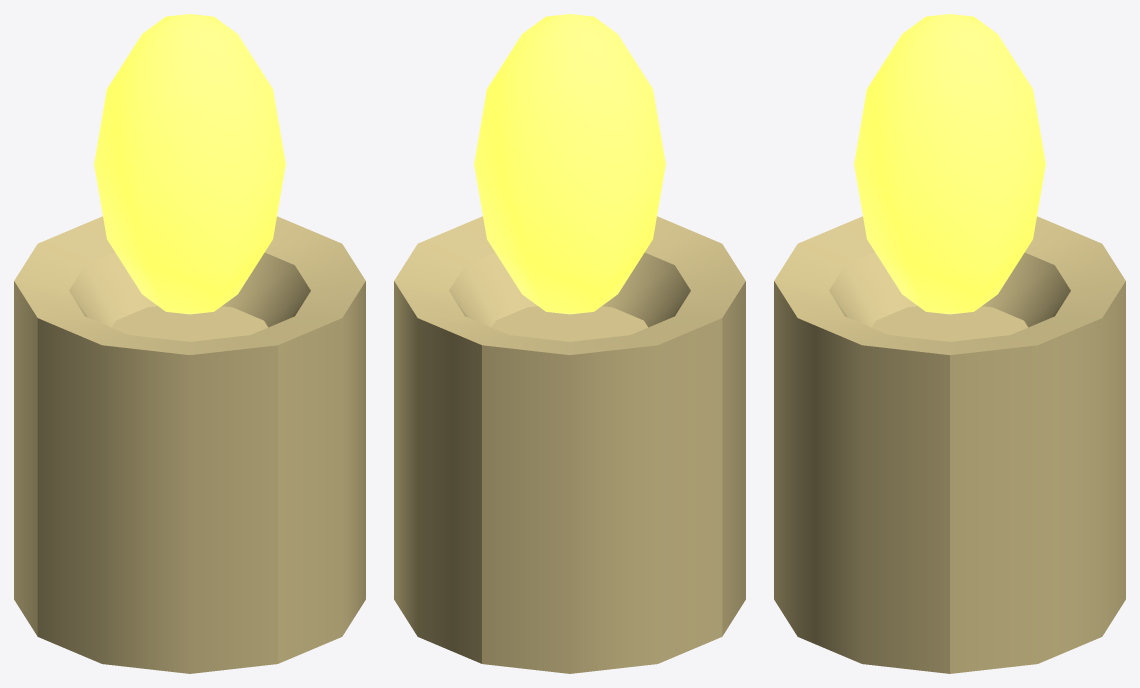
The model's file is candle.fbx.
3 views of the same model, side by side, from view 1: azimuth 30°, elevation 25°; view 2: azimuth 150°, elevation 25°; view 3: azimuth 270°, elevation 25° (orthographic).
Parts seen in each view (by area): view 1: Cylinder, Sphere; view 2: Cylinder, Sphere; view 3: Cylinder, Sphere.
Part boxes in pixels (left/top/right/bottom): Cylinder: left=14, top=216, right=365, bottom=673; Sphere: left=94, top=14, right=285, bottom=314; Cylinder: left=394, top=216, right=745, bottom=673; Sphere: left=474, top=14, right=665, bottom=314; Cylinder: left=774, top=216, right=1125, bottom=673; Sphere: left=854, top=14, right=1045, bottom=314.
Bounding box in the file's own units: 200 × 367 × 200.
